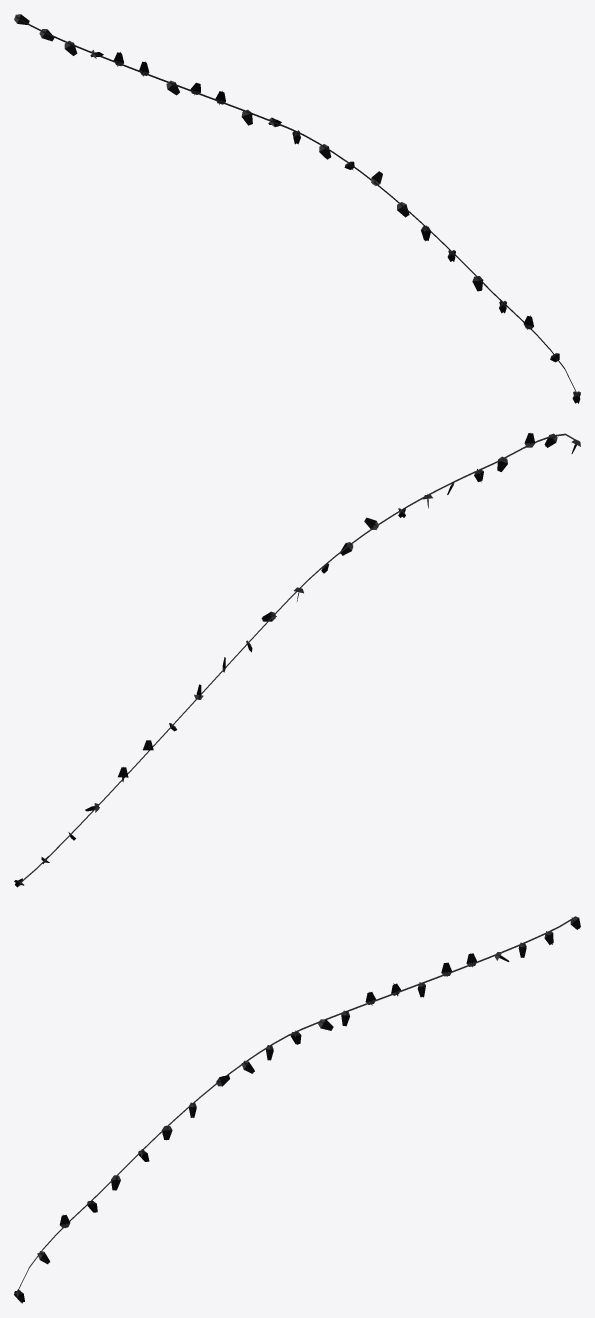
The model's file is criLights.glb.
The picture shows the model from 3 angles, top to bottom: view 1: azimuth 30°, elevation 25°; view 2: azimuth 150°, elevation 25°; view 3: azimuth 330°, elevation 25°; orthographic projection.
Parts seen in each view (by area): view 1: testG; view 2: testG; view 3: testG.
Part boxes in pixels (box(x1,y1,x2,y2)): testG: box(14, 14, 580, 403); testG: box(14, 433, 580, 887); testG: box(14, 916, 580, 1303).
Size of the model in its own units: 0.1904 by 1.29 by 11.84.
2 materials, 1 textured.
